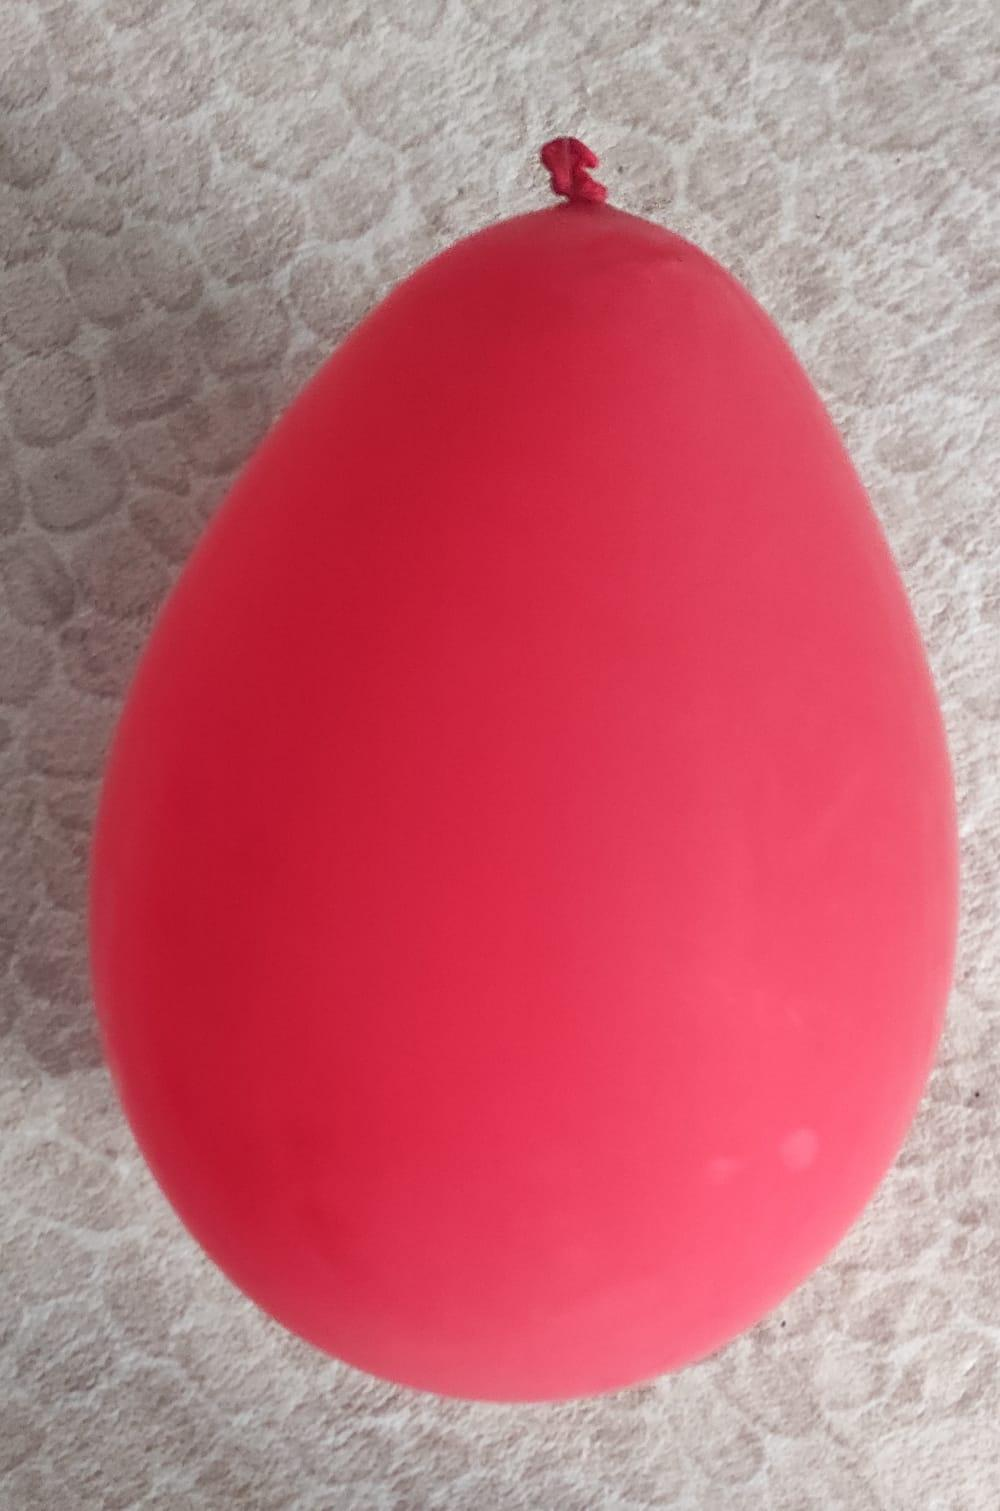red: (87, 134, 979, 1422)
